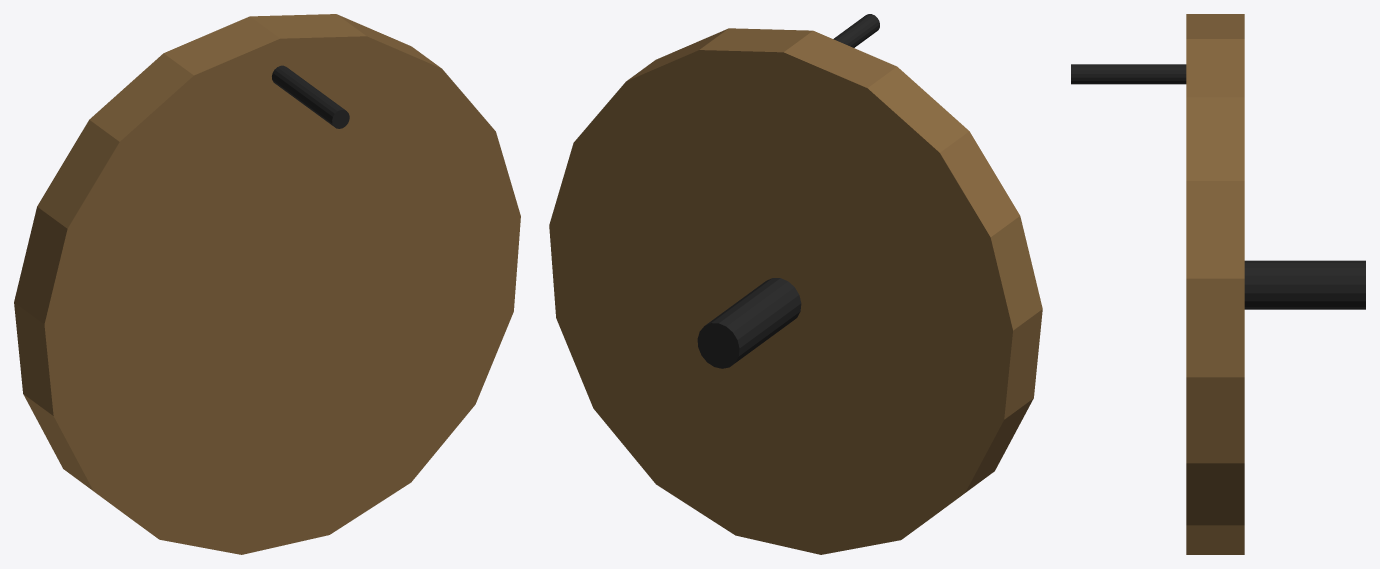
The model's file is Pump_Krank.fbx.
3 views of the same model, side by side, from view 1: azimuth 30°, elevation 25°; view 2: azimuth 150°, elevation 25°; view 3: azimuth 270°, elevation 25° (orthographic). The views are drawn at different scales.
Parts seen in each view (by area): view 1: WaterPump_Krank; view 2: WaterPump_Krank; view 3: WaterPump_Krank.
Part boxes in pixels (left/top/right/bottom): WaterPump_Krank: left=14, top=14, right=520, bottom=554; WaterPump_Krank: left=549, top=14, right=1042, bottom=554; WaterPump_Krank: left=1071, top=14, right=1365, bottom=554.
Bounding box in the file's own units: 52.3 × 53.32 × 29.33.
